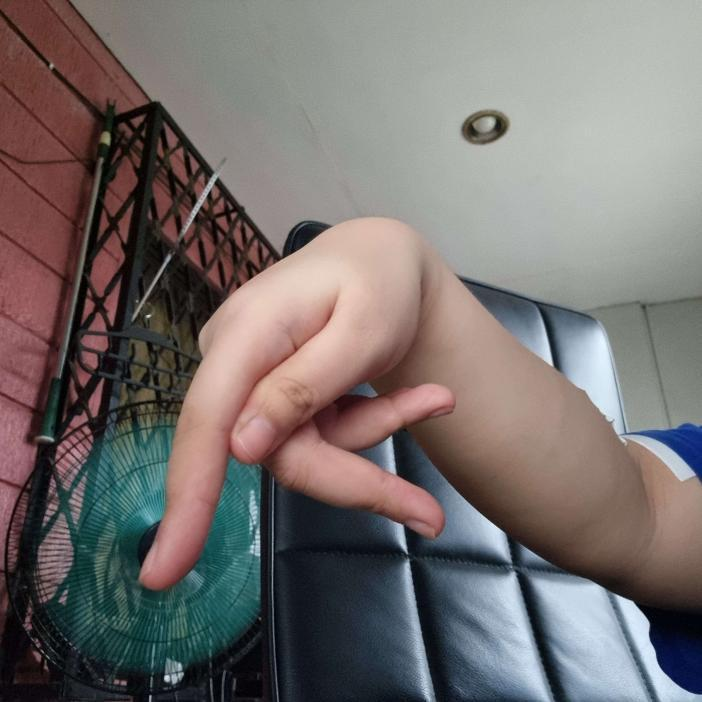p: (137, 215, 456, 591)
